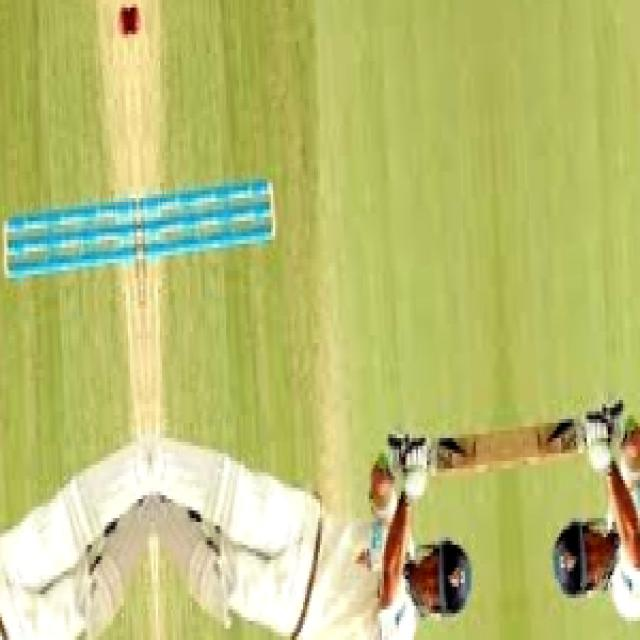toe: (512, 417, 526, 470)
